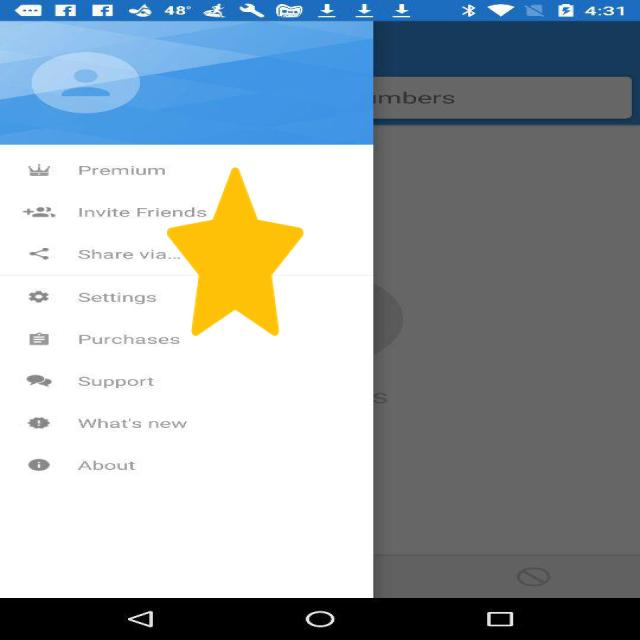forced continuity: (167, 167, 304, 336)
